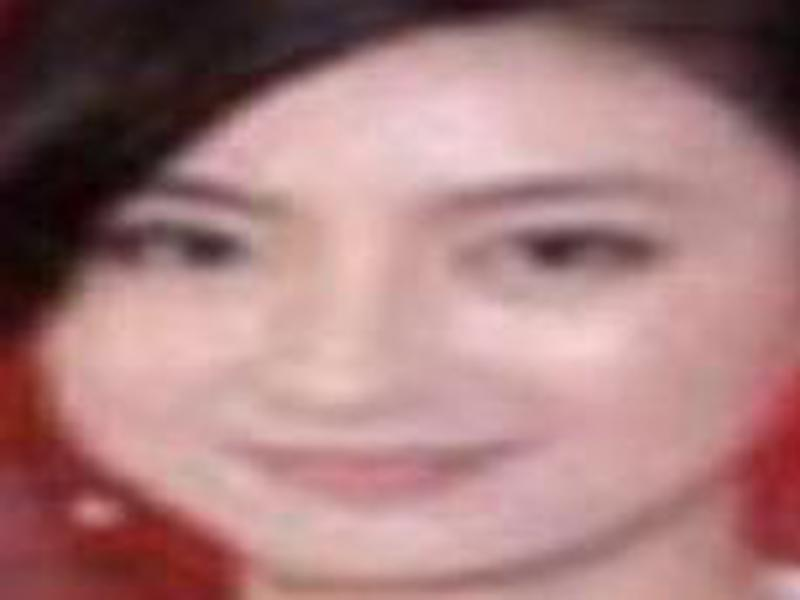without_mask: (42, 25, 772, 585)
